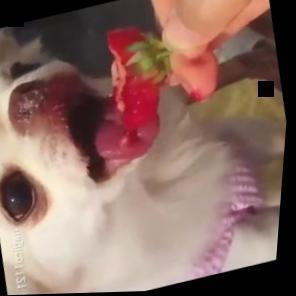nasal_discharge: (7, 85, 53, 127)
